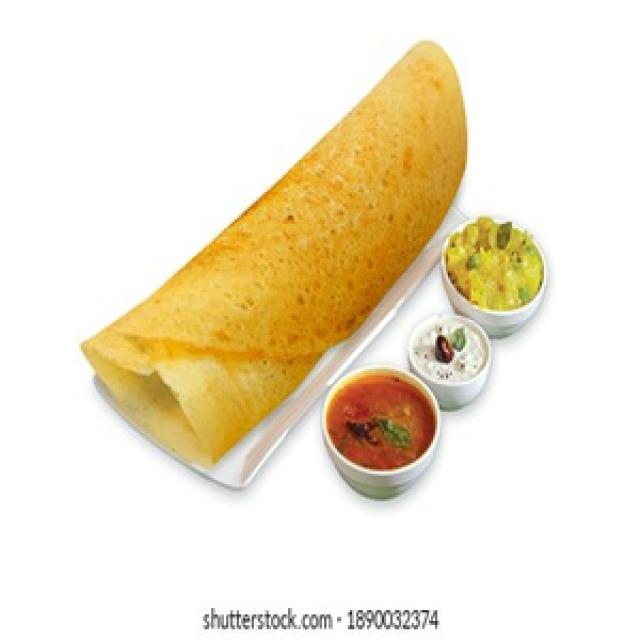dosa: (74, 26, 483, 509)
